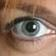eye: (22, 20, 40, 36)
